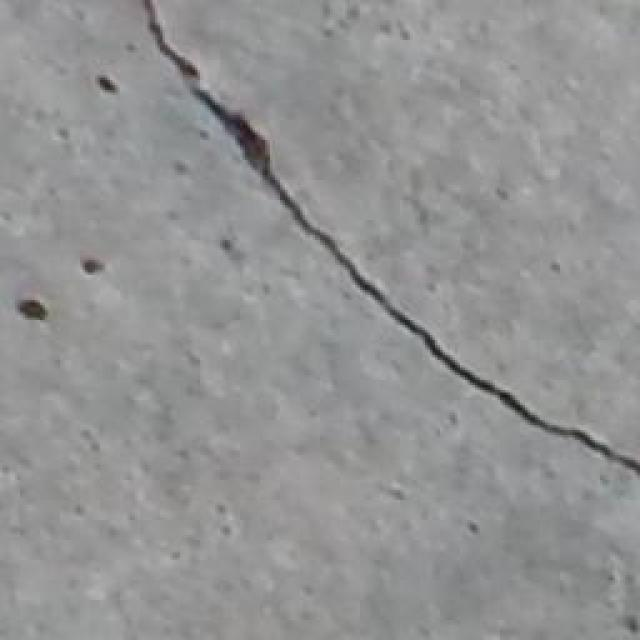concrete-crack: (142, 0, 640, 478)
